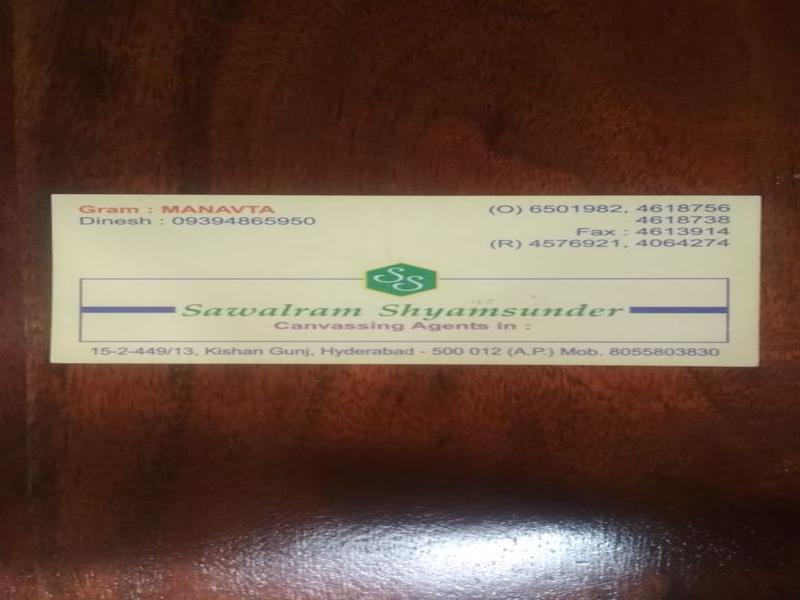card: (50, 193, 762, 370)
